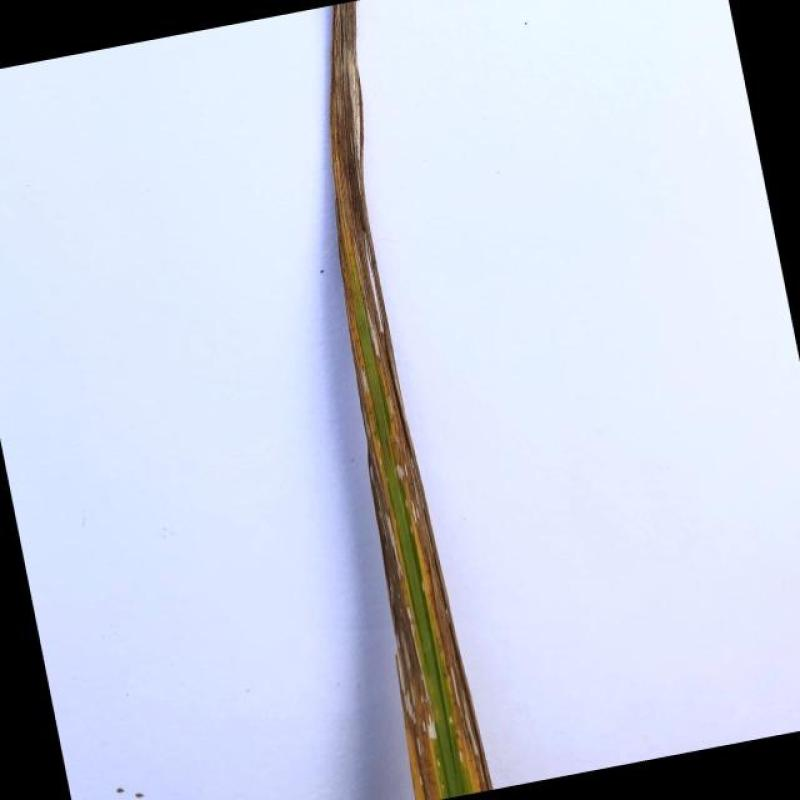Rice Tungro: (328, 0, 496, 798)
